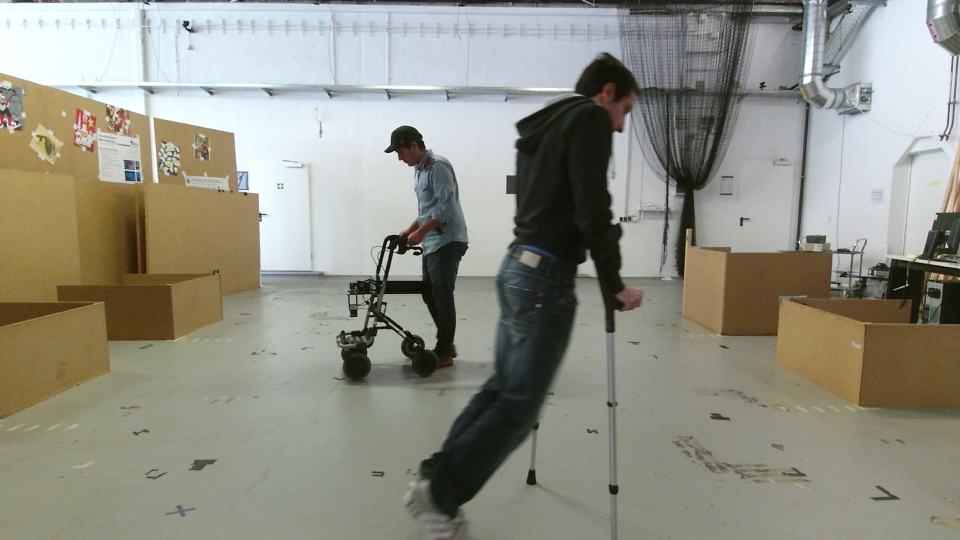crutches: (401, 52, 647, 537)
